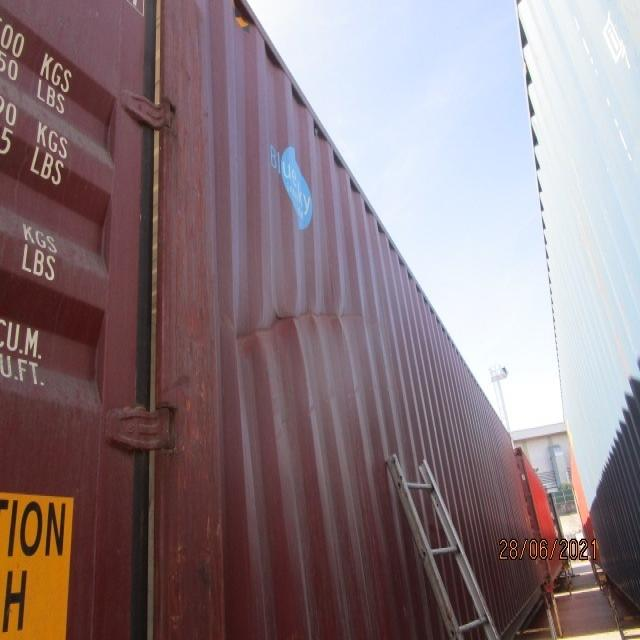dent: (227, 276, 370, 376)
